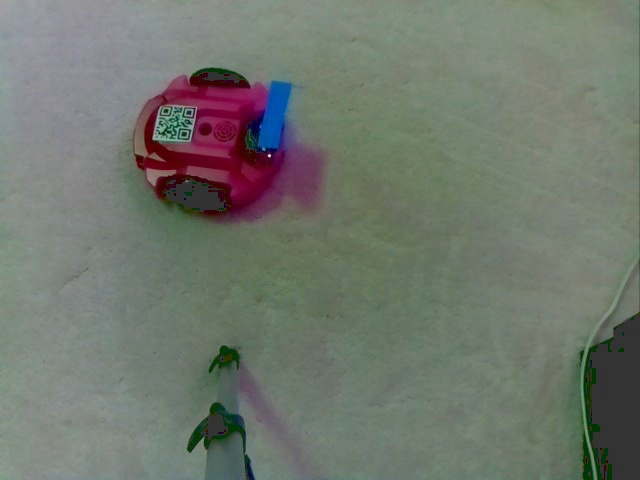board: (239, 84, 294, 166)
chassis: (130, 66, 294, 212)
